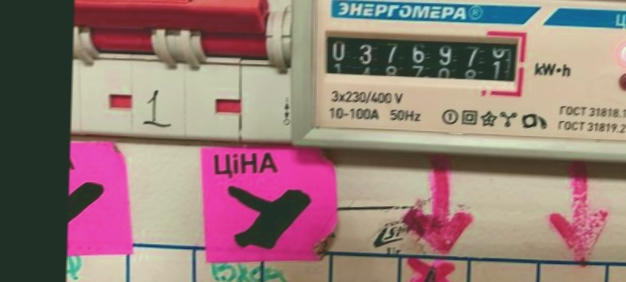0: (330, 39, 345, 61)
1: (490, 59, 500, 81)
3: (358, 43, 371, 64)
6: (410, 40, 425, 64)
7: (384, 40, 398, 64), (464, 43, 478, 66)
9: (437, 43, 451, 65)
screen: (313, 21, 529, 100)
